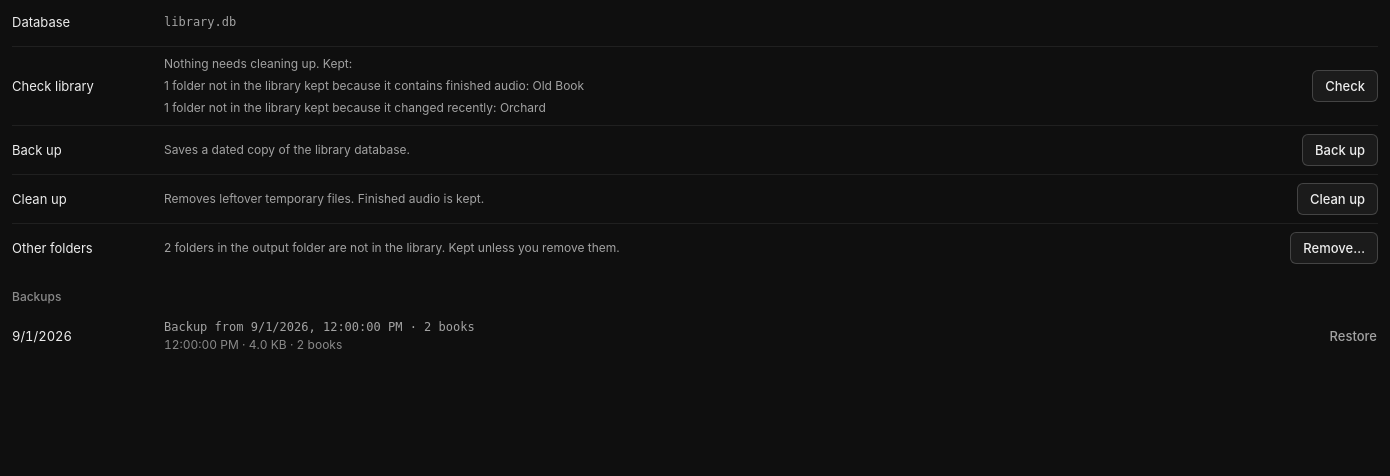
Test: LibraryMaintenanceSection › promises a backup only where one is made
Click the button with id "library-unowned-btn".
click(1334, 248)  # box [1290, 232, 1378, 264]
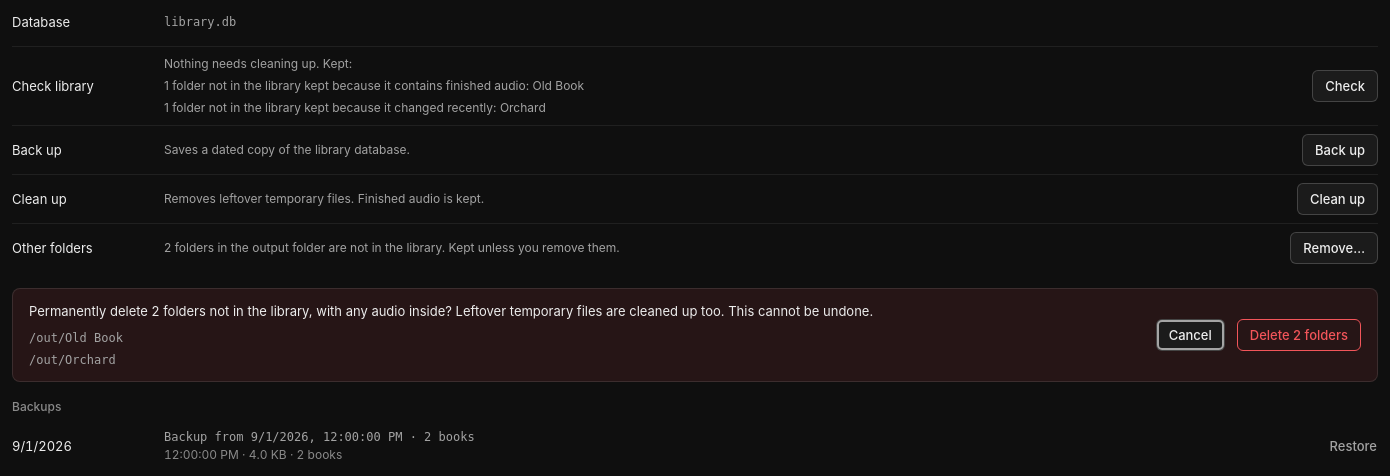
Expected: the element with class "inline-confirm" does not show "backup"
Expected: the element with class "inline-confirm" shows "This cannot be undone.", [206, 303, 873, 319]
Click the button with id "library-cleanup-btn".
click(1337, 199)  # box [1297, 183, 1378, 215]
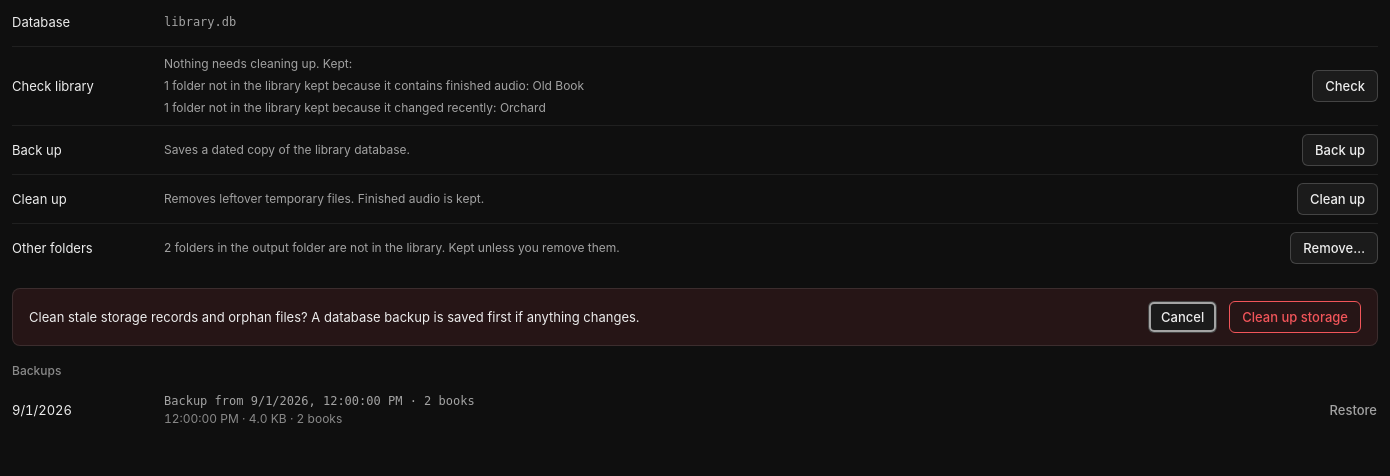
Expected: the message with class "library-cleanup-confirmation" shows "Clean stale storage records and orphan files? A database backup is saved first if anything changes.", [29, 309, 640, 325]
